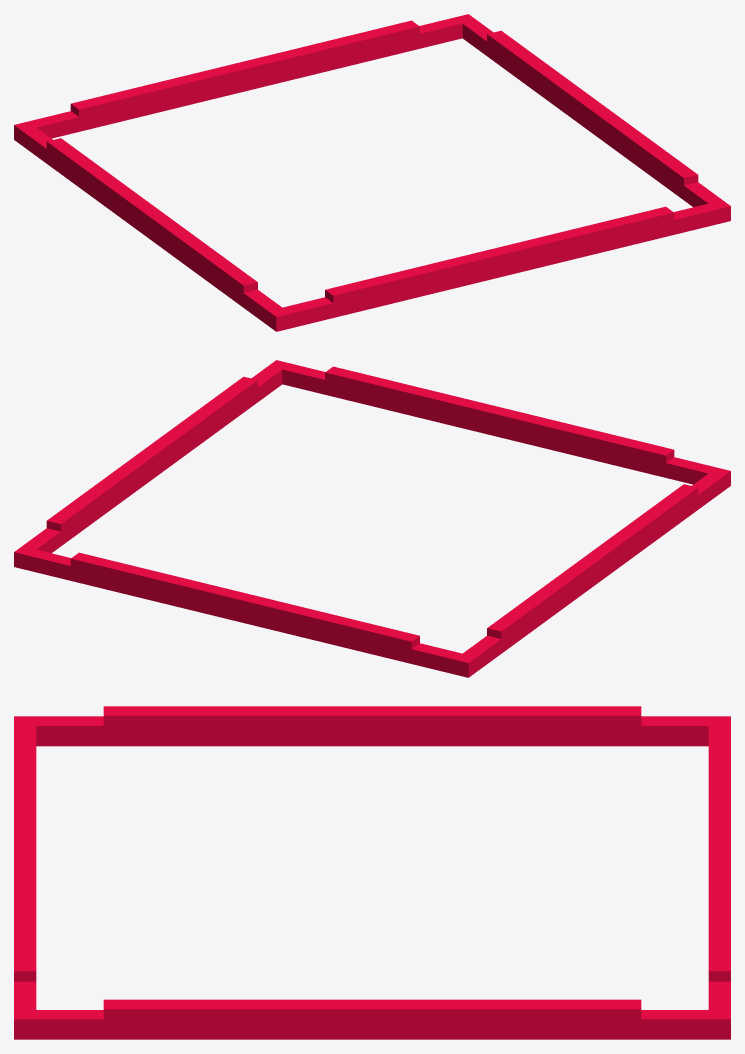
File: towerSlice9.obj
3 renders of one model, top to bottom at view 1: azimuth 30°, elevation 25°; view 2: azimuth 150°, elevation 25°; view 3: azimuth 270°, elevation 25°, orthographic. The views are drawn at different scales.
Size of the model in its own units: 6.4 by 0.3 by 6.4.
